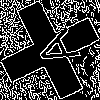A: (25, 25, 81, 76)
